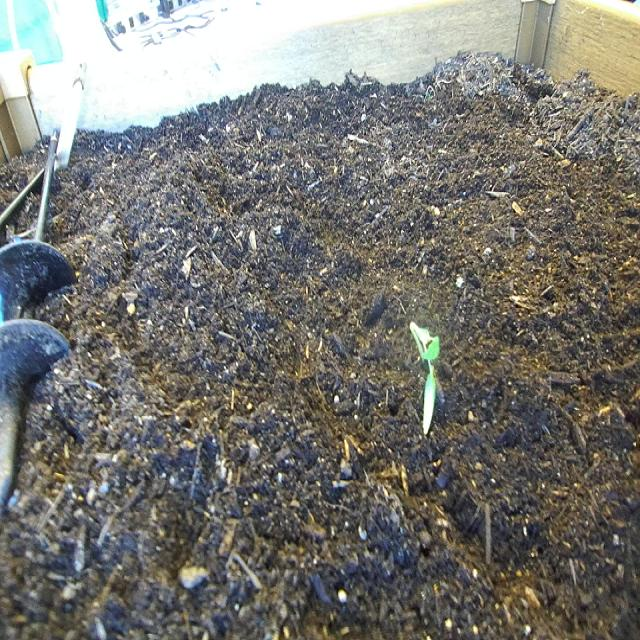Healthy: (407, 316, 452, 438)
